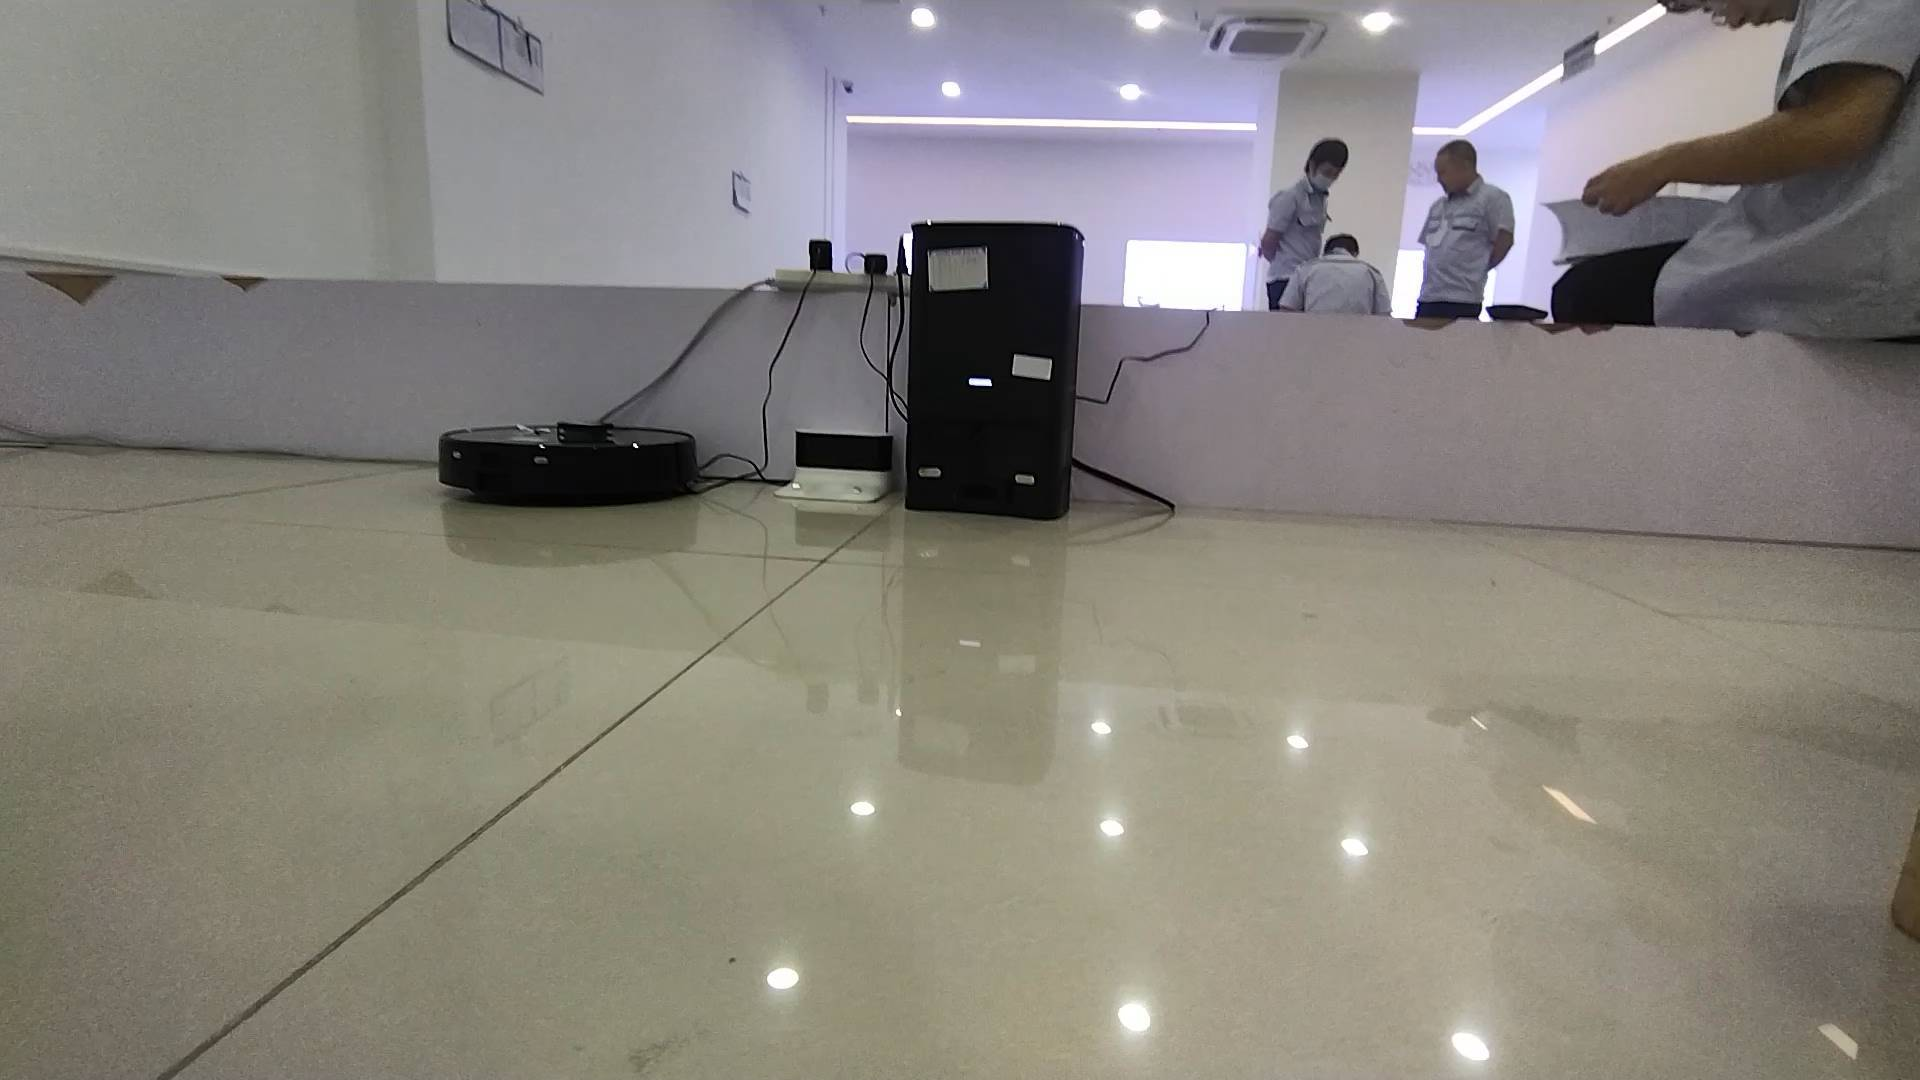dust collecting barrel: (905, 220, 1084, 520)
recharge seat: (775, 425, 899, 505)
